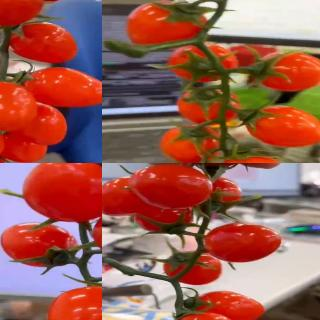tomato: (22, 163, 102, 220), (128, 164, 214, 211), (125, 2, 209, 49), (0, 222, 75, 268), (22, 65, 102, 108), (204, 222, 282, 265), (247, 105, 320, 148), (9, 22, 78, 66), (249, 49, 320, 91), (166, 42, 238, 82), (178, 86, 243, 125), (158, 126, 223, 163), (190, 290, 268, 320), (102, 174, 158, 215), (162, 252, 224, 286), (19, 102, 68, 145), (46, 284, 102, 320), (0, 80, 38, 133), (130, 206, 194, 235), (0, 0, 44, 29), (210, 176, 244, 204)
